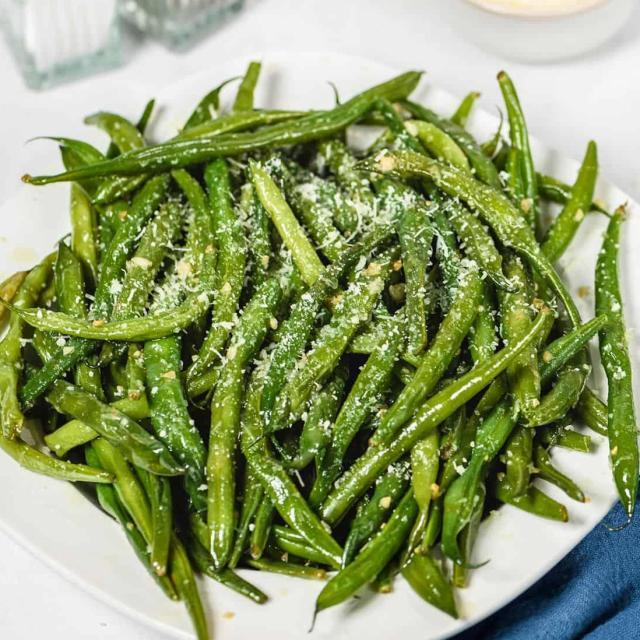Beans: (0, 66, 639, 639)
